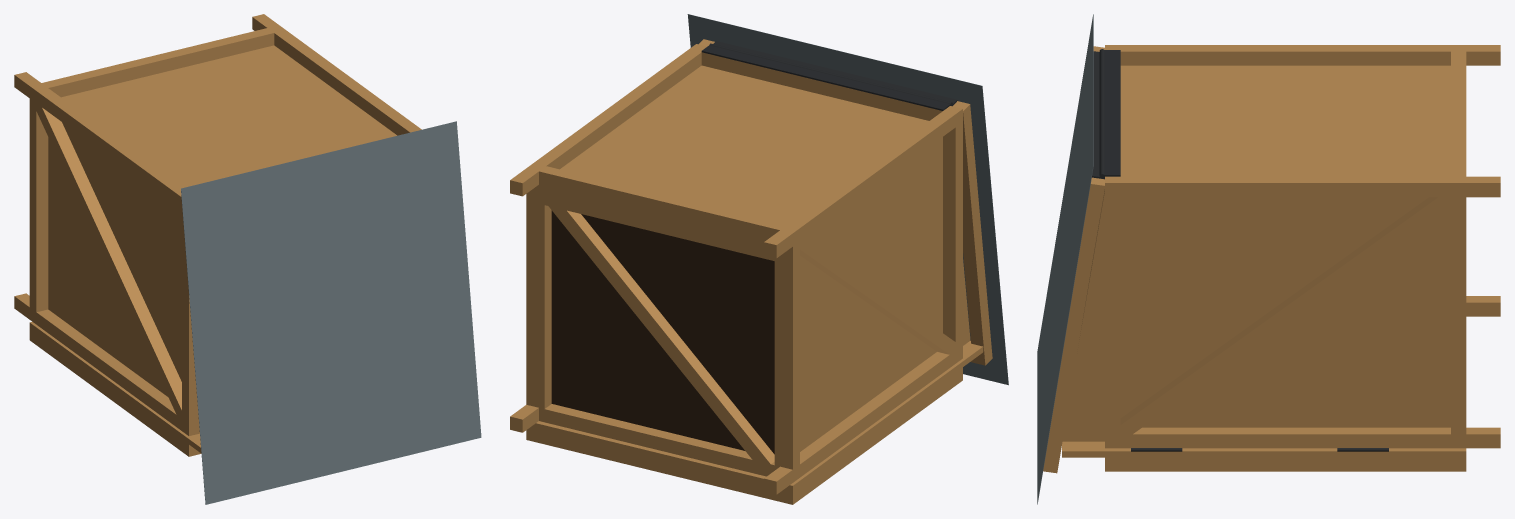
Rendered from .dass-closed.step.glb.
3 renders of one model, left to right at view 1: azimuth 30°, elevation 25°; view 2: azimuth 150°, elevation 25°; view 3: azimuth 270°, elevation 25°, orthographic. The views are drawn at different scales.
Parts seen in each view (by area): view 1: o1.30, o1.19, o1.17, o1.28, o1.6, o1.2, o1.1, o1.7, o1.4, o1.35, o1.8, o1.34 (+1 smaller); view 2: o1.20, o1.19, o1.17, o1.30, o1.22, o1.2, o1.6, o1.4, o1.1, o1.5, o1.7, o1.8 (+13 smaller); view 3: o1.18, o1.19, o1.30, o1.4, o1.3, o1.29, o1.2, o1.36, o1.34, o1.15, o1.10, o1.9 (+6 smaller).
Part boxes in pixels (x1,y1,x2,y2): o1.30: [181, 121, 481, 504]; o1.19: [61, 46, 396, 187]; o1.17: [48, 122, 181, 396]; o1.28: [36, 103, 181, 418]; o1.6: [42, 28, 274, 97]; o1.2: [14, 72, 183, 209]; o1.1: [14, 293, 199, 435]; o1.7: [29, 99, 48, 312]; o1.4: [252, 14, 421, 135]; o1.35: [29, 328, 200, 456]; o1.8: [182, 210, 198, 423]; o1.34: [29, 322, 201, 453]; o1.20: [551, 210, 774, 454]; o1.19: [539, 66, 928, 245]; o1.17: [774, 137, 970, 470]; o1.30: [687, 14, 1008, 385]; o1.22: [547, 198, 774, 473]; o1.2: [764, 106, 962, 258]; o1.6: [539, 166, 786, 239]; o1.4: [510, 44, 706, 196]; o1.1: [764, 345, 962, 494]; o1.5: [539, 404, 779, 476]; o1.7: [780, 241, 799, 469]; o1.8: [943, 122, 962, 349]; o1.18: [1062, 189, 1450, 441]; o1.19: [1120, 65, 1450, 176]; o1.30: [1037, 14, 1093, 504]; o1.4: [1105, 176, 1500, 197]; o1.3: [1105, 427, 1500, 448]; o1.29: [1120, 197, 1450, 434]; o1.2: [1105, 45, 1500, 65]; o1.36: [1105, 457, 1466, 471]; o1.34: [1062, 441, 1466, 457]; o1.15: [1045, 198, 1102, 459]; o1.10: [1105, 197, 1120, 434]; o1.9: [1451, 197, 1466, 434].
Size of the model in its own units: 1.05 by 1.08 by 1.35.
